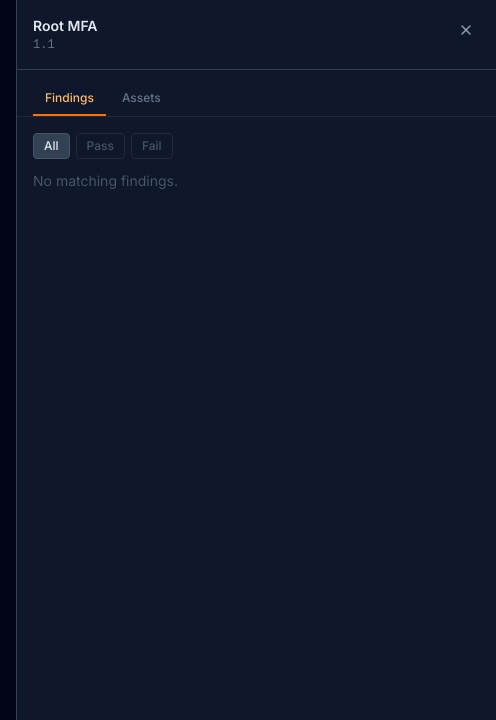
ControlDrilldownPanel › shows an empty state on the Assets tab when there are no matching assets
The image size is (496, 720).
Click the tab "assets".
click(141, 99)  # box [110,82,173,116]
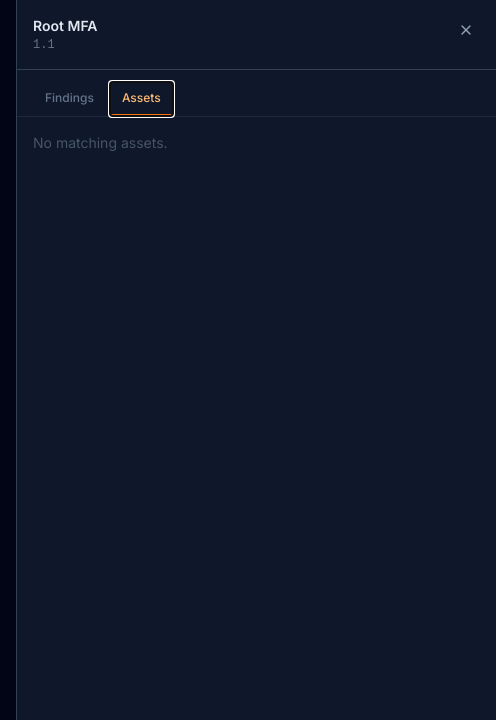
Check: the text "No matching assets." is shown, box [33,134,168,151]
